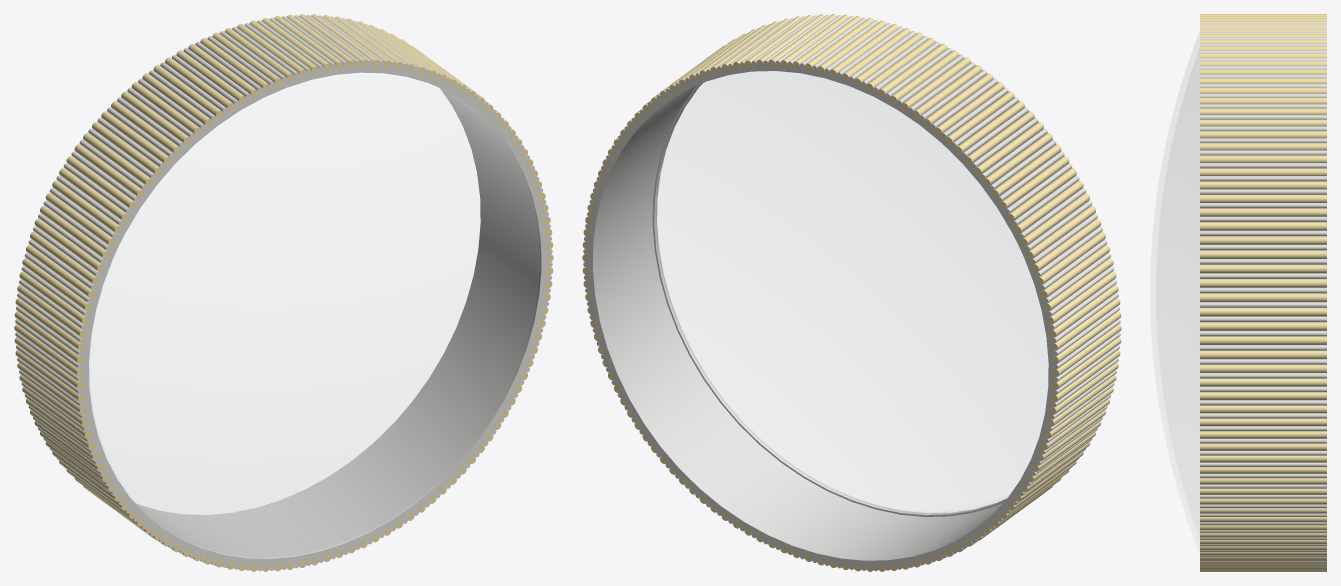
File: Assembled_Outer_Ring_SubAssembly_compressed.glb
3 views of the same model, side by side, from view 1: azimuth 30°, elevation 25°; view 2: azimuth 150°, elevation 25°; view 3: azimuth 270°, elevation 25° (orthographic).
Visible parts, largest first — view 1: OuterRing, m2d5x30 (×21); view 2: OuterRing, m2d5x30 (×21); view 3: m2d5x30 (×58), OuterRing, Glass_126d2mm.
Boxes of the visible parts, left/top/right/bottom form: OuterRing: left=15, top=14, right=552, bottom=571; m2d5x30 (×21): left=19, top=50, right=246, bottom=324; OuterRing: left=583, top=14, right=1120, bottom=571; m2d5x30 (×21): left=889, top=50, right=1116, bottom=324; m2d5x30 (×58): left=1200, top=14, right=1326, bottom=570; OuterRing: left=1200, top=20, right=1326, bottom=567; Glass_126d2mm: left=1156, top=48, right=1199, bottom=537.
Size of the model in its own units: 0.1585 by 0.1585 by 0.0502.
